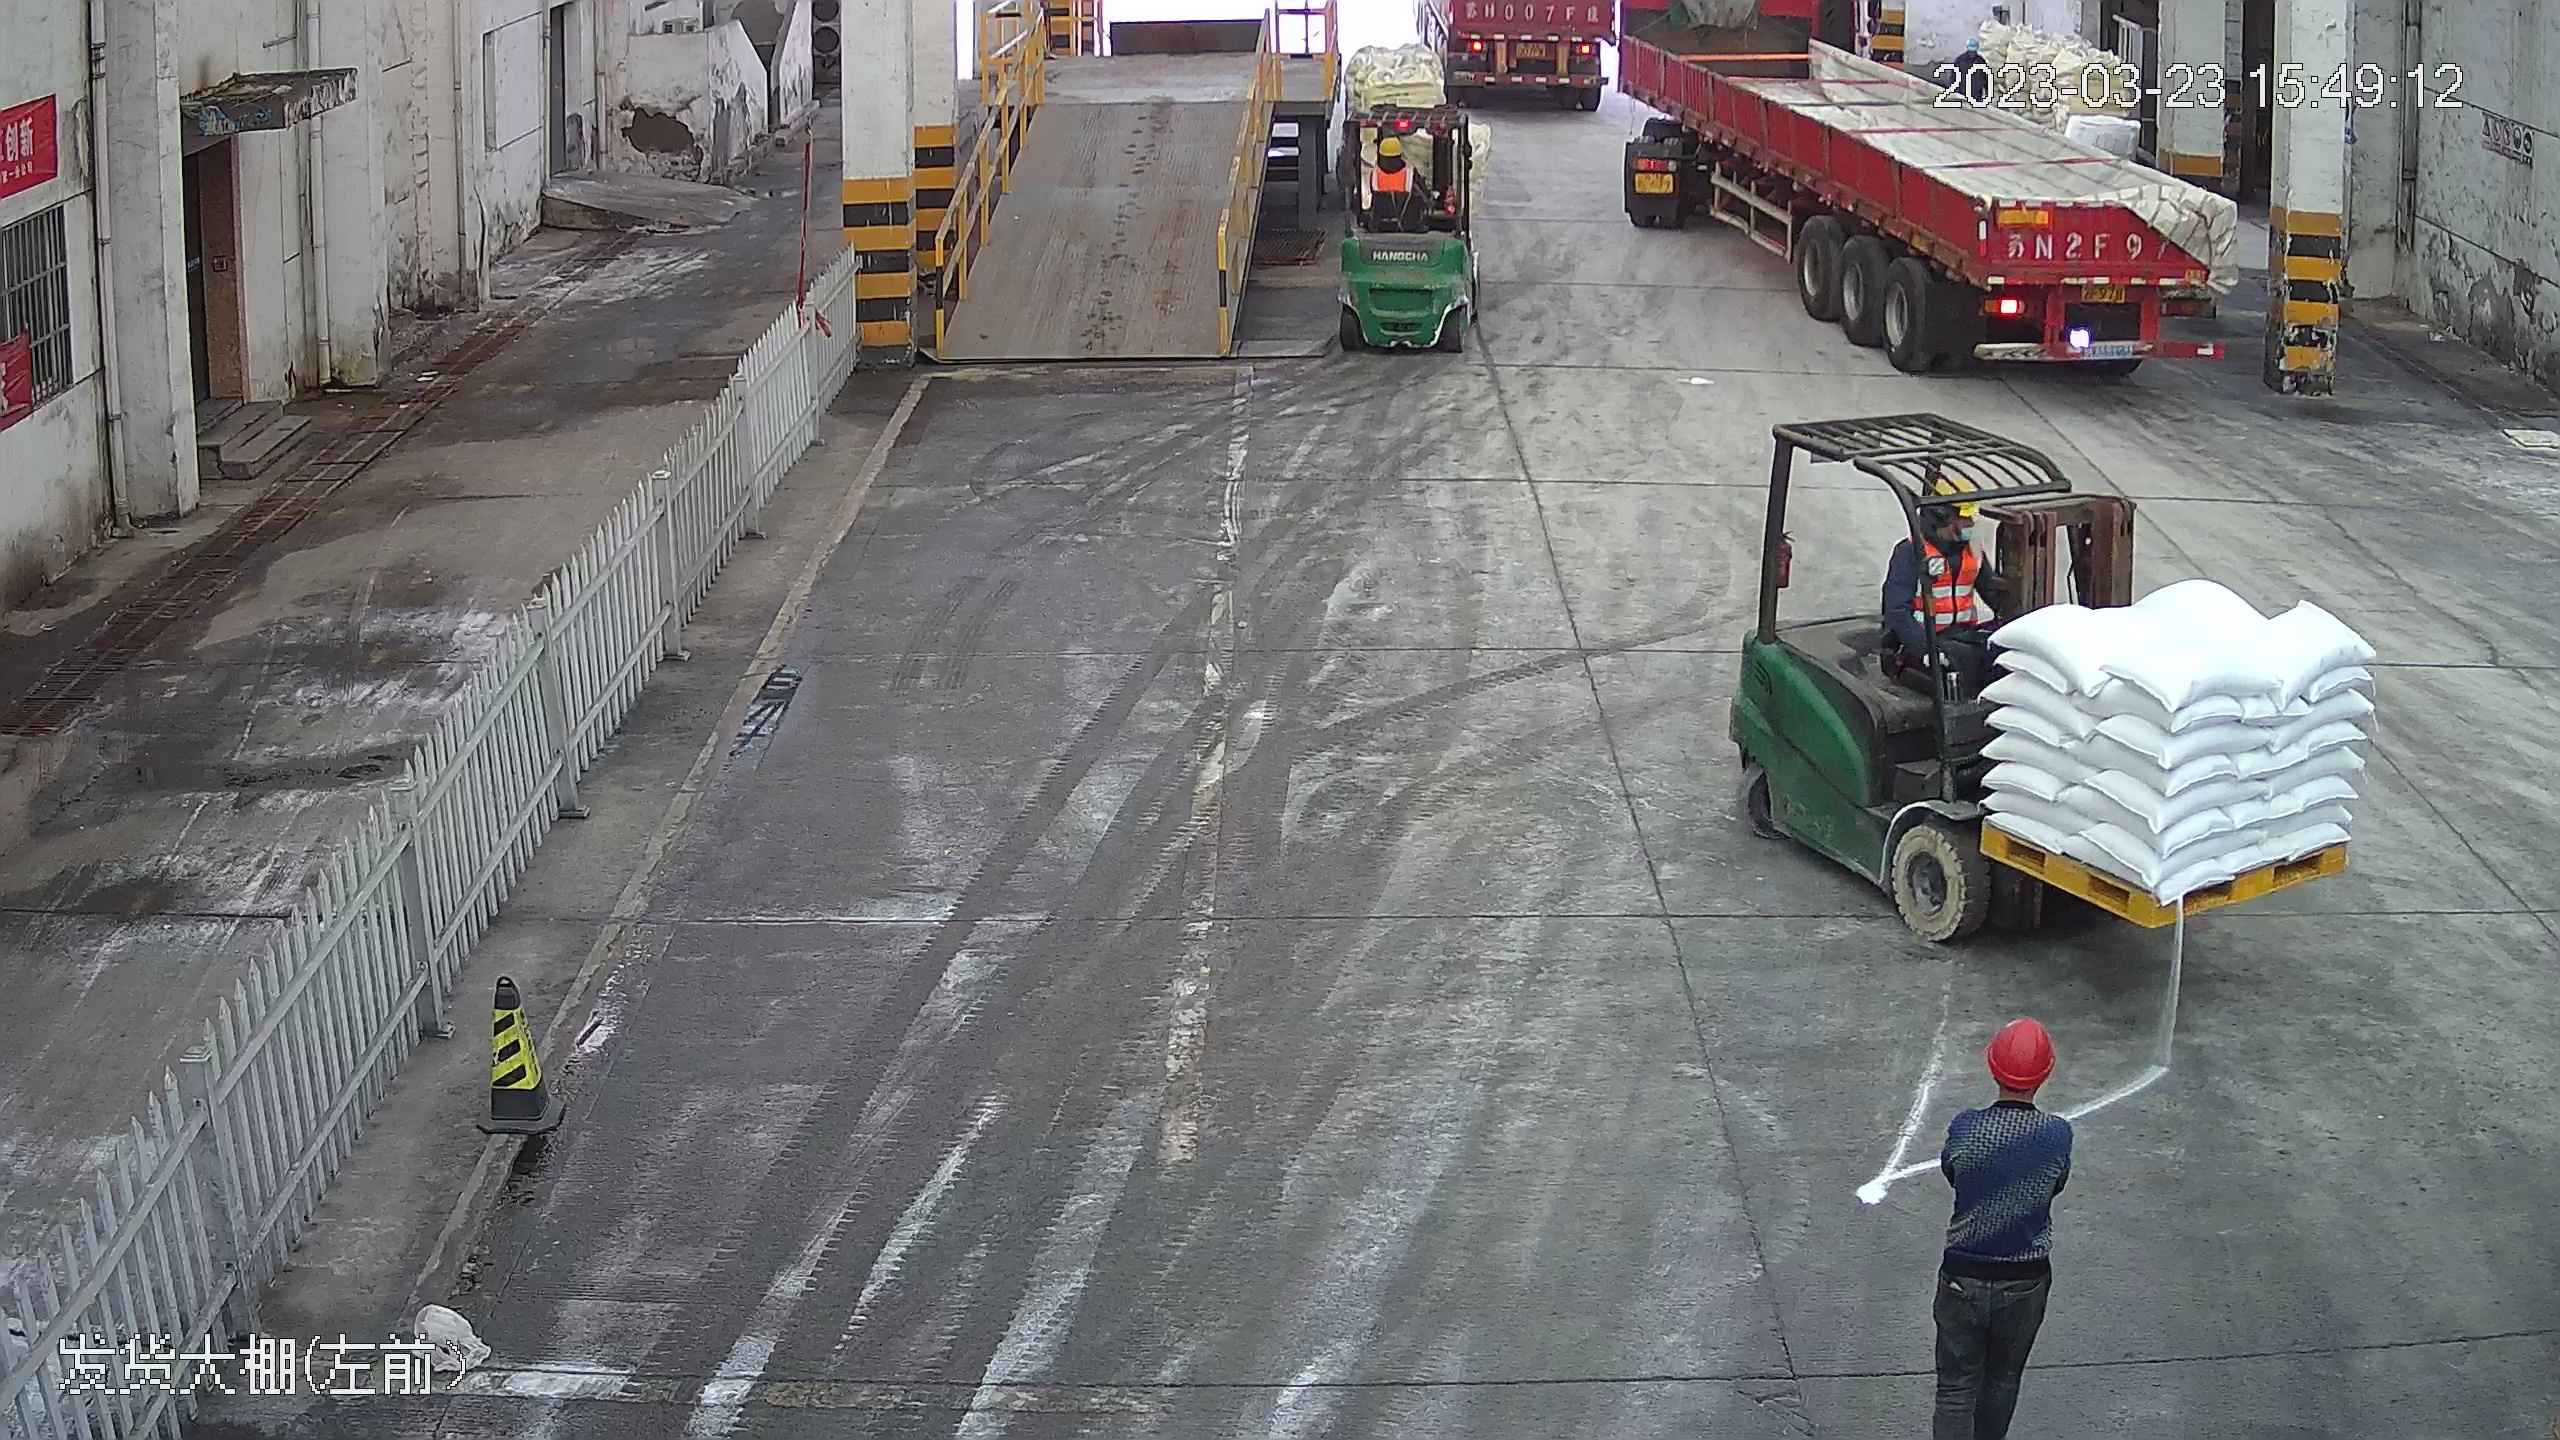head: (1942, 1012, 2070, 1171), (1897, 477, 1991, 589), (1367, 134, 1413, 189)
helmet: (1982, 1013, 2059, 1084), (1921, 478, 1977, 519), (1374, 131, 1402, 153)
people: (1912, 1009, 2072, 1440)
truck: (1606, 1, 2235, 392)
